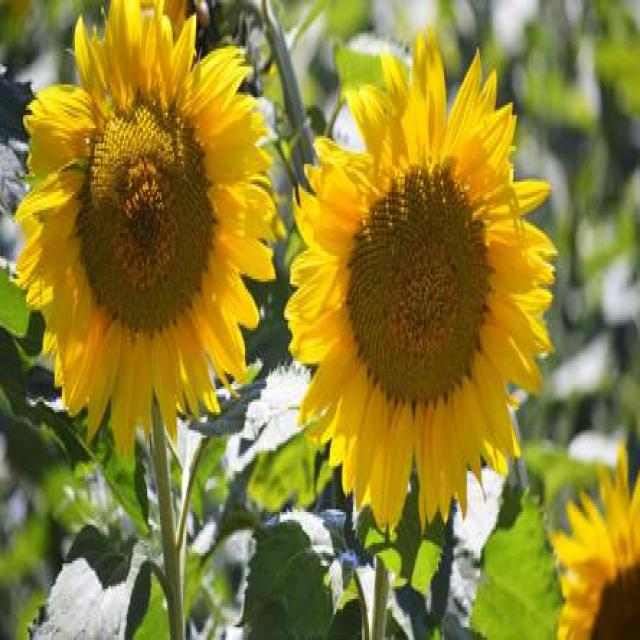sunflower: (281, 18, 558, 532), (11, 0, 279, 461)
